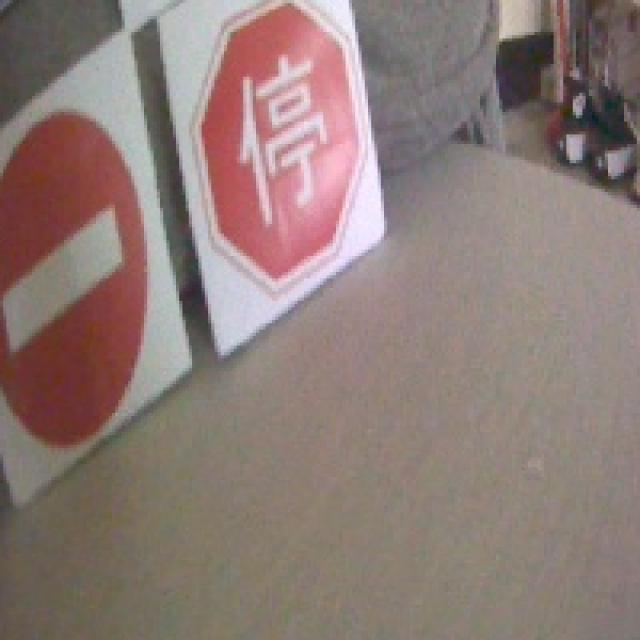DoNotEnterSign: (0, 112, 150, 448)
